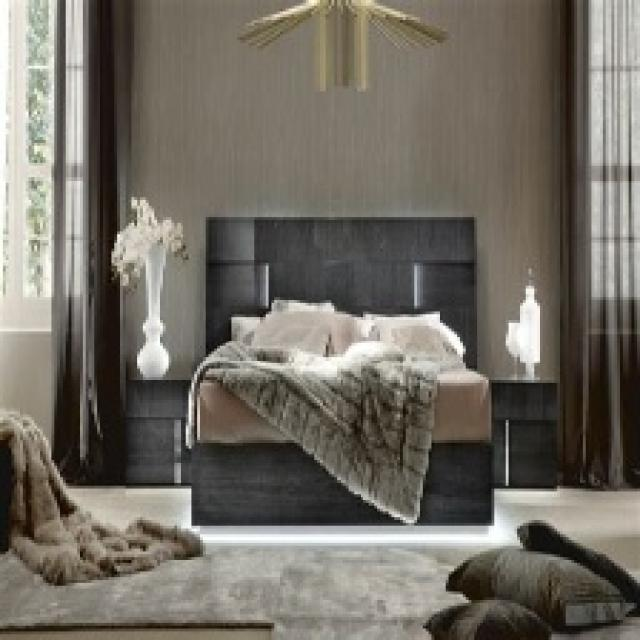Bed: (183, 214, 491, 526)
